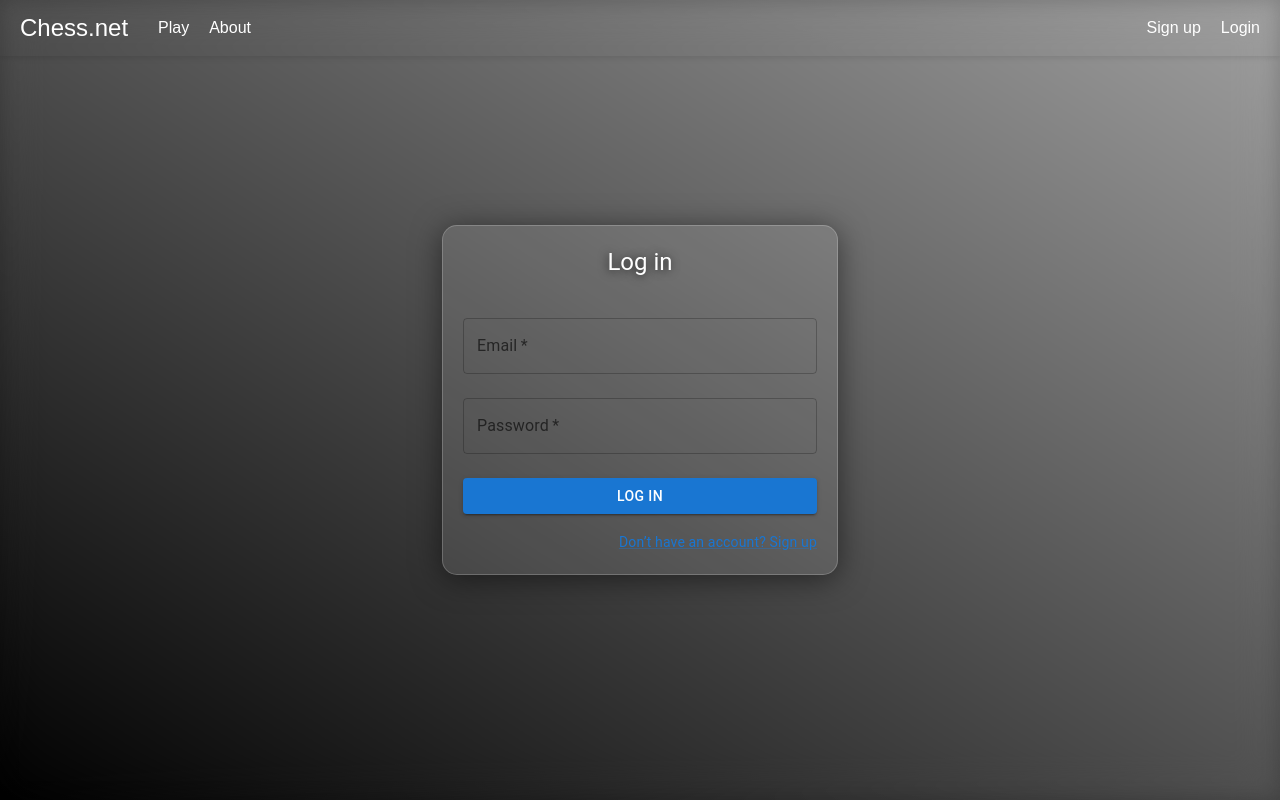
it: Login Form E2E Tests › should show validation error for invalid email
The width and height of the screenshot is (1280, 800).
In the field named "email": (640, 346) [463,318,817,374], type "invalid-email@c"
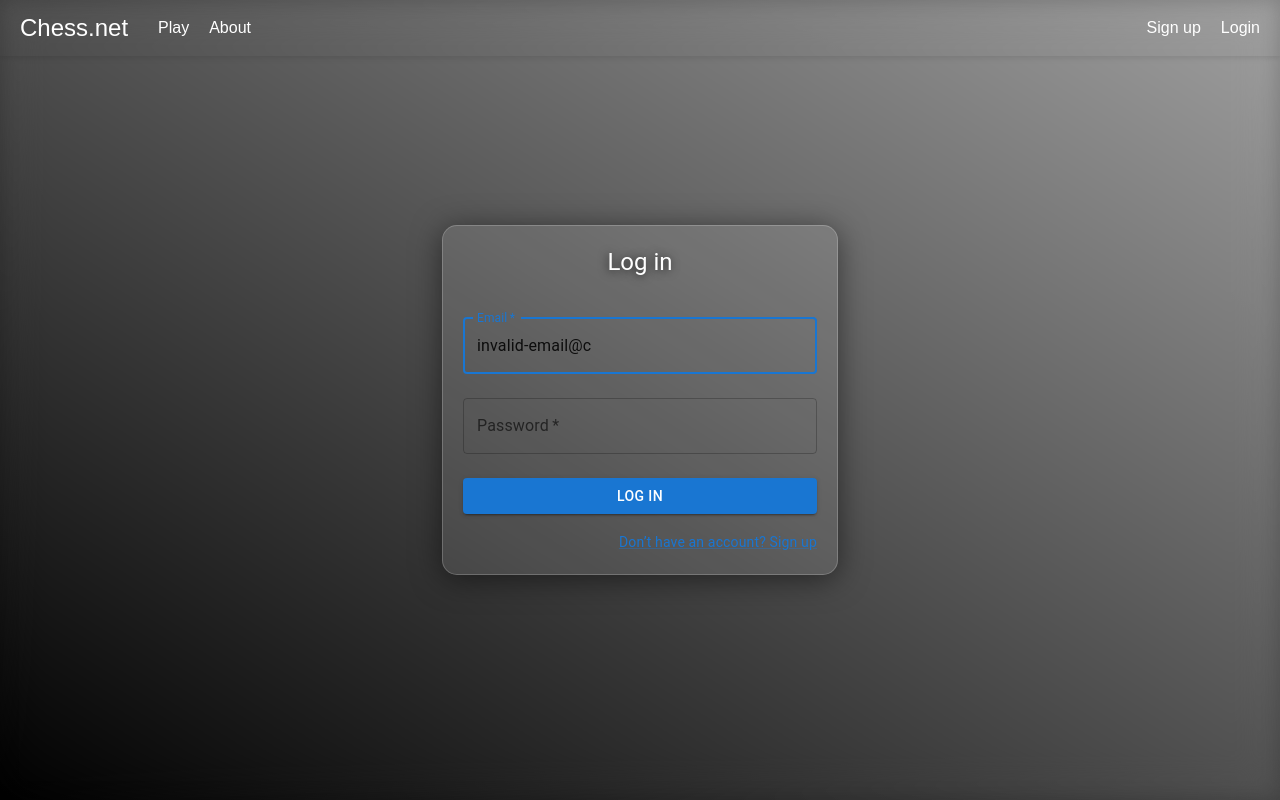
In the password field named "password": (640, 426) [463,398,817,454], type "Password123!"
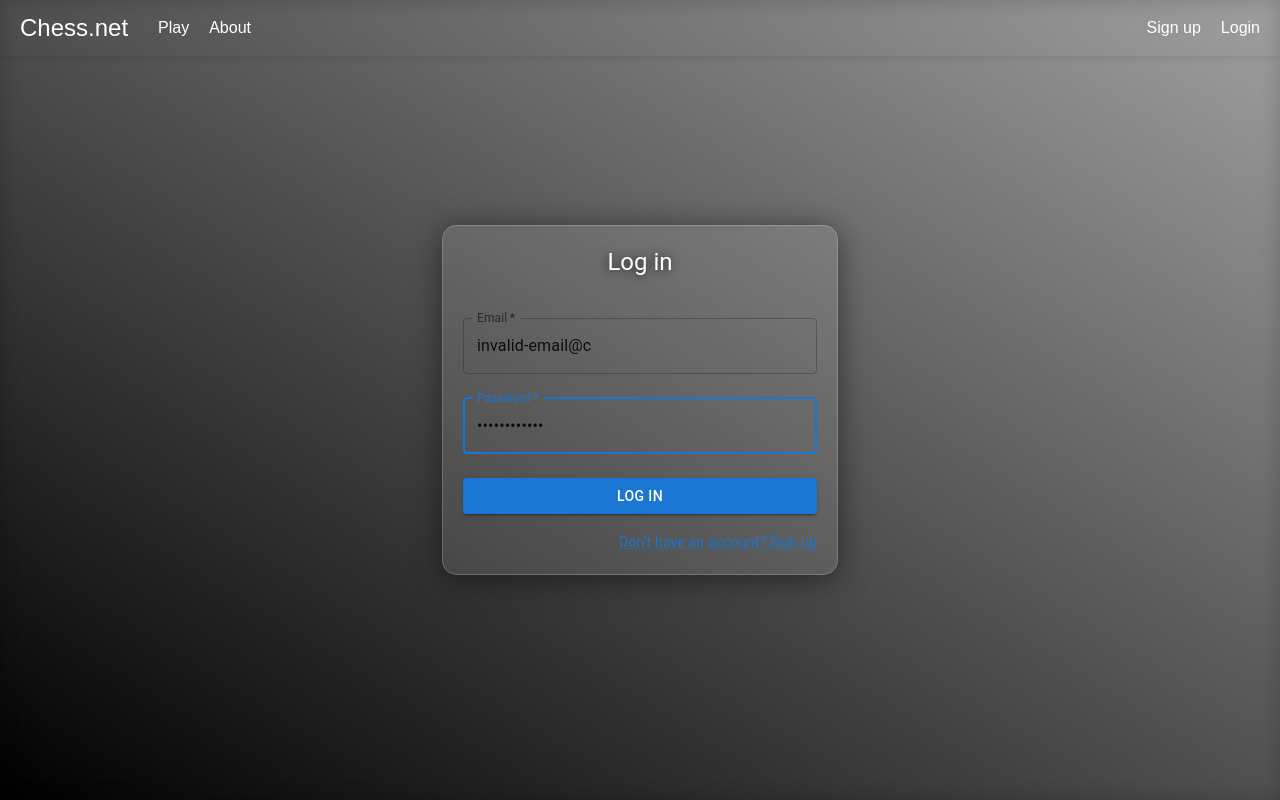
Click the submit button: (640, 497) [463,478,817,515]
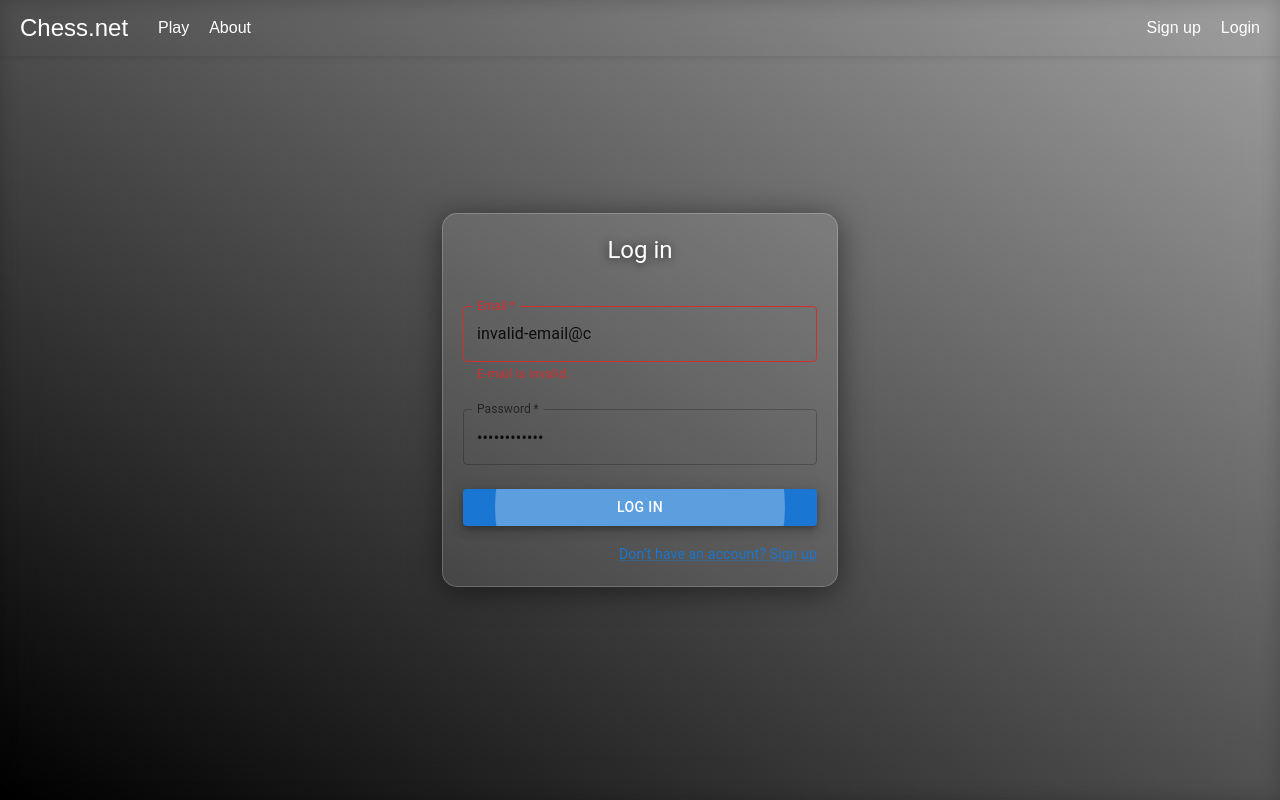
Check: the text "E-mail is invalid." is shown, box [477,367,570,381]
